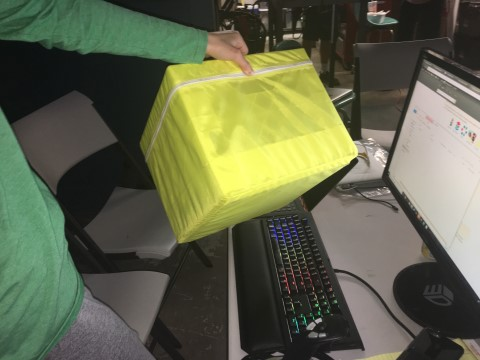cube: (140, 48, 359, 245)
